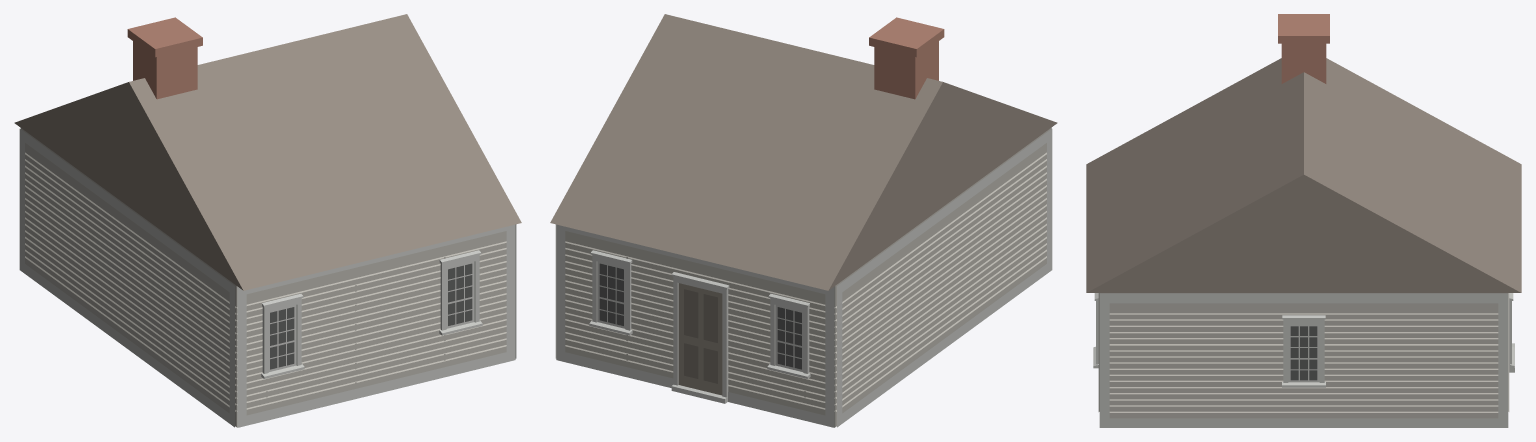
The model's file is recon_1835_blk_school_section_tier_95_d4_03__inferred_1835.glb.
The picture shows the model from 3 angles, left to right: view 1: azimuth 30°, elevation 25°; view 2: azimuth 150°, elevation 25°; view 3: azimuth 270°, elevation 25°; orthographic projection. The views are drawn at different scales.
Parts seen in each view (by area): view 1: recon_1835_blk_school_section_tier_95_d4_03__inferred_1835; view 2: recon_1835_blk_school_section_tier_95_d4_03__inferred_1835; view 3: recon_1835_blk_school_section_tier_95_d4_03__inferred_1835.
Boxes of the visible parts, box(x1,y1,x2,y2) form: recon_1835_blk_school_section_tier_95_d4_03__inferred_1835: box(14, 14, 521, 427); recon_1835_blk_school_section_tier_95_d4_03__inferred_1835: box(550, 14, 1057, 427); recon_1835_blk_school_section_tier_95_d4_03__inferred_1835: box(1086, 14, 1521, 427).
Bounding box in the file's own units: 5.88 × 6.02 × 8.17.
